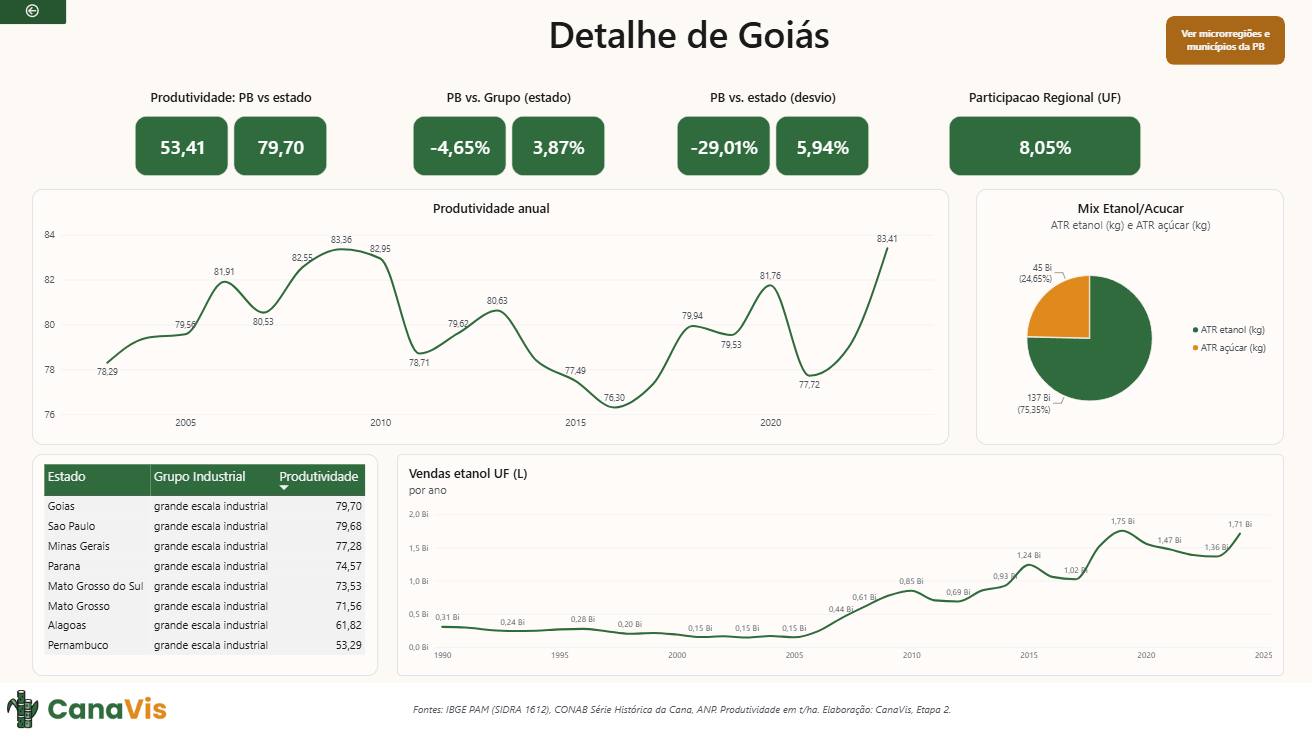

What the dashboard file says about the page in this screenshot:
{"tool":"powerbi","page":{"name":"Detalhe do estado","canvas":[1920,1080],"ordinal":1},"visuals":[{"type":"lineChart","title":"Produtividade anual","fields":{"Category":["dim_calendario.ano"],"Y":["fato_producao.Produtividade"]},"box":[49.6,280.1,1337.9,373.5],"z":0},{"type":"pieChart","title":"Mix Etanol/Acucar","fields":{"Y":["fato_industria.ATR equivalente etanol (kg)","fato_industria.ATR equivalente açúcar (kg)"]},"box":[1426.9,280.1,449.4,373.5],"z":1000},{"type":"cardVisual","title":"Produtividade: PB vs estado","fields":{"Data":["fato_producao_uf.Produtividade PB (UF)","fato_producao_uf.Produtividade (UF)"]},"box":[199.9,132.8,280.1,128.4],"z":2000},{"type":"cardVisual","title":"Participacao Regional (UF)","fields":{"Data":["fato_producao.Participação regional"]},"box":[1387.5,132.8,280.1,128.4],"z":3000},{"type":"cardVisual","title":"PB vs. Grupo (estado)","fields":{"Data":["fato_producao_uf.Desvio PB vs pares","fato_producao_uf.Desvio vs grupo (UF)"]},"box":[605.5,132.8,280.1,128.4],"z":4000},{"type":"cardVisual","title":"PB vs. estado (desvio)","fields":{"Data":["fato_producao_uf.Desvio PB vs nível","fato_producao_uf.Desvio vs seleção (UF)"]},"box":[990.6,132.8,280.1,128.4],"z":5000},{"type":"actionButton","box":[1703.7,27,173.6,71.5],"z":6000},{"type":"tableEx","fields":{"Values":["UF_Ranking.nome_territorio_sem_acento","dim_territorio.tier","Referencia de comparacao.Produtividade_Ranking"]},"box":[49.6,666.7,504.8,323.9],"z":7000},{"type":"lineChart","fields":{"Category":["dim_calendario.ano"],"Y":["fato_vendas_etanol_uf.Vendas etanol UF (L)"]},"box":[582.1,666.7,1294.1,323.9],"z":8000},{"type":"actionButton","box":[0,0,100,40],"z":9000},{"type":"cardVisual","fields":{"Data":["Referencia de comparacao.Título Estado"]},"box":[409.3,9.3,1196,86.7],"z":10000},{"type":"textbox","box":[605.5,1028.6,838.9,35],"z":11000},{"type":"actionButton","box":[1722.7,1020,137.3,34.7],"z":12000}]}

Visuals, with their boxes in screenshot pixels (x1, y1, x2, y2), scaled from the page's 1920x1080 canvas onto the 1312x735 screenshot:
"Produtividade anual" lineChart: bbox=(34, 191, 948, 445)
"Mix Etanol/Acucar" pieChart: bbox=(975, 191, 1282, 445)
"Produtividade: PB vs estado" cardVisual: bbox=(137, 90, 328, 178)
"Participacao Regional (UF)" cardVisual: bbox=(948, 90, 1140, 178)
"PB vs. Grupo (estado)" cardVisual: bbox=(414, 90, 605, 178)
"PB vs. estado (desvio)" cardVisual: bbox=(677, 90, 868, 178)
actionButton: bbox=(1164, 18, 1283, 67)
tableEx - UF_Ranking.nome_territorio_sem_acento x dim_territorio.tier: bbox=(34, 454, 379, 674)
lineChart - dim_calendario.ano x fato_vendas_etanol_uf.Vendas etanol UF (L): bbox=(398, 454, 1282, 674)
actionButton: bbox=(0, 0, 68, 27)
cardVisual - Referencia de comparacao.Título Estado: bbox=(280, 6, 1097, 65)
textbox: bbox=(414, 700, 987, 724)
actionButton: bbox=(1177, 694, 1271, 718)
